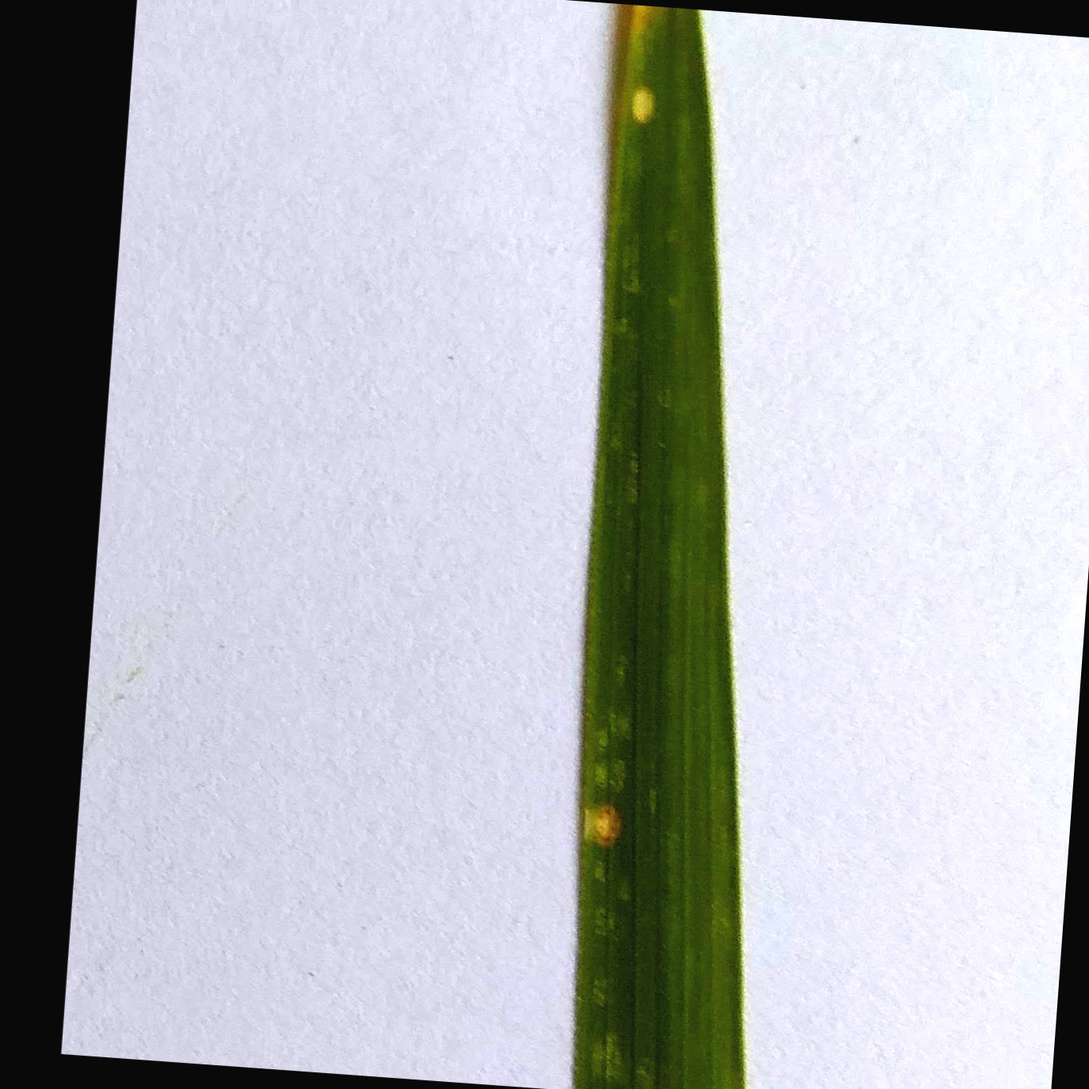Brown_Spot: (573, 772, 658, 856), (606, 73, 669, 136)
